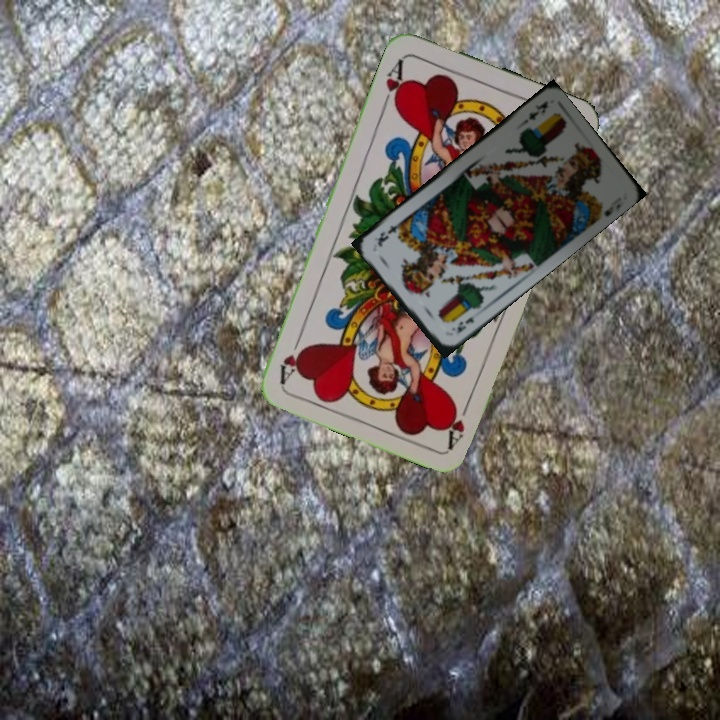EK: (517, 97, 551, 128), (447, 313, 476, 336)
HA: (441, 393, 474, 450), (378, 55, 409, 111)
